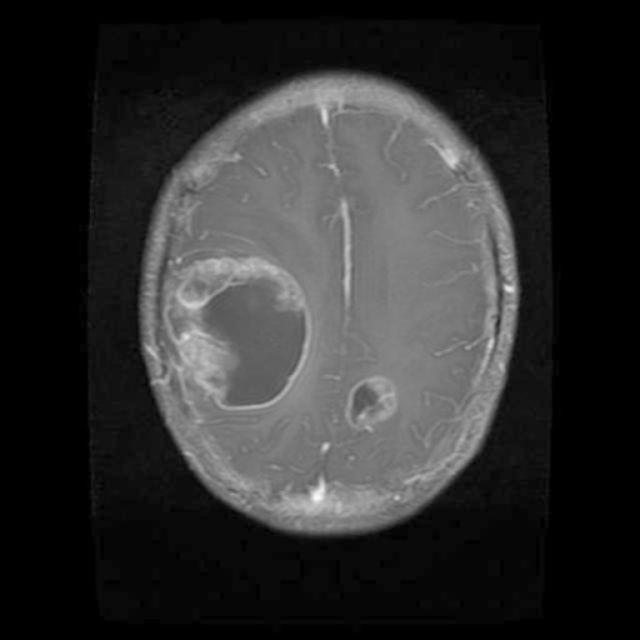pituitary tumor: (182, 252, 302, 418), (339, 376, 399, 436)
